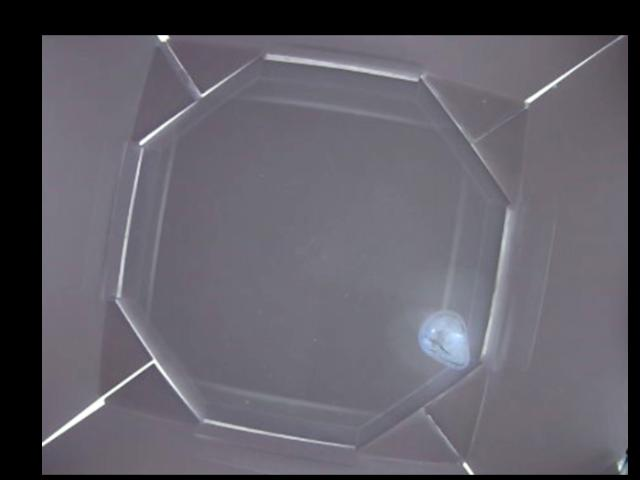Pebble: (417, 309, 469, 369)
